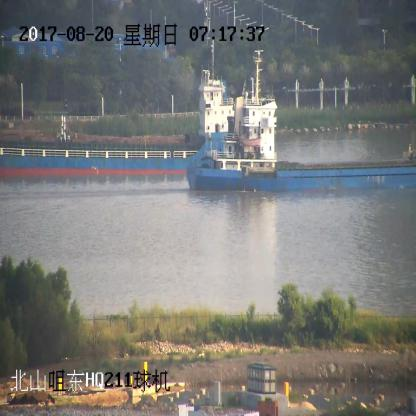Bulk Carrier: (0, 77, 270, 174), (190, 96, 416, 191)
